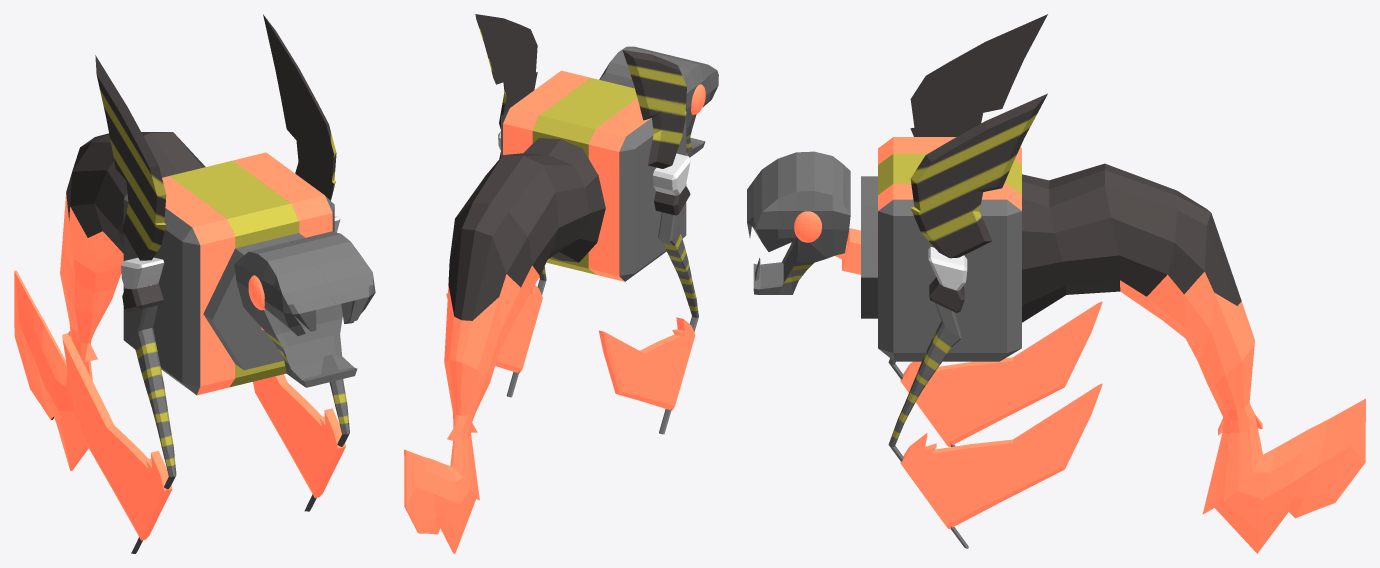
File: zanzarah1.fbx
The picture shows the model from 3 angles, left to right: view 1: azimuth 30°, elevation 25°; view 2: azimuth 150°, elevation 25°; view 3: azimuth 270°, elevation 25°; orthographic projection. The views are drawn at different scales.
Visible parts, largest first — view 1: CORPO, CODA, ZAMPE, FACCIA, ALETTE, BASE COLLO; view 2: CODA, CORPO, ZAMPE, ALETTE, FACCIA; view 3: CODA, ZAMPE, ALETTE, CORPO, FACCIA, BASE COLLO, COLLO.
Part boxes in pixels (bbox=[...]): CORPO: bbox=[123, 152, 334, 395]; CODA: bbox=[14, 132, 205, 470]; ZAMPE: bbox=[95, 14, 349, 553]; FACCIA: bbox=[234, 231, 375, 387]; ALETTE: bbox=[62, 333, 345, 540]; BASE COLLO: bbox=[203, 233, 304, 370]; CODA: bbox=[404, 138, 605, 553]; CORPO: bbox=[501, 70, 686, 281]; ZAMPE: bbox=[475, 14, 698, 434]; ALETTE: bbox=[446, 285, 695, 410]; FACCIA: bbox=[599, 46, 718, 157]; CODA: bbox=[1022, 163, 1365, 553]; ZAMPE: bbox=[888, 14, 1047, 548]; ALETTE: bbox=[900, 301, 1102, 528]; CORPO: bbox=[878, 137, 1021, 361]; FACCIA: bbox=[747, 151, 850, 294]; BASE COLLO: bbox=[861, 176, 877, 318]; COLLO: bbox=[835, 228, 860, 274].
Size of the model in its own units: 180 by 66.53 by 161.
6 materials, 5 textured.
